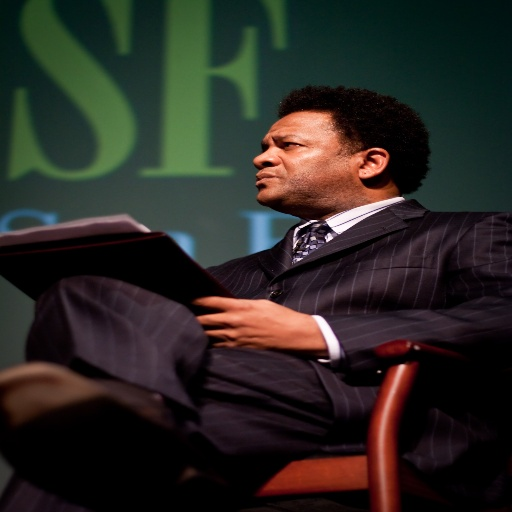hand: (191, 289, 328, 356)
